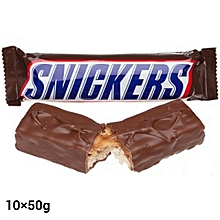snickers: (23, 61, 190, 99)
